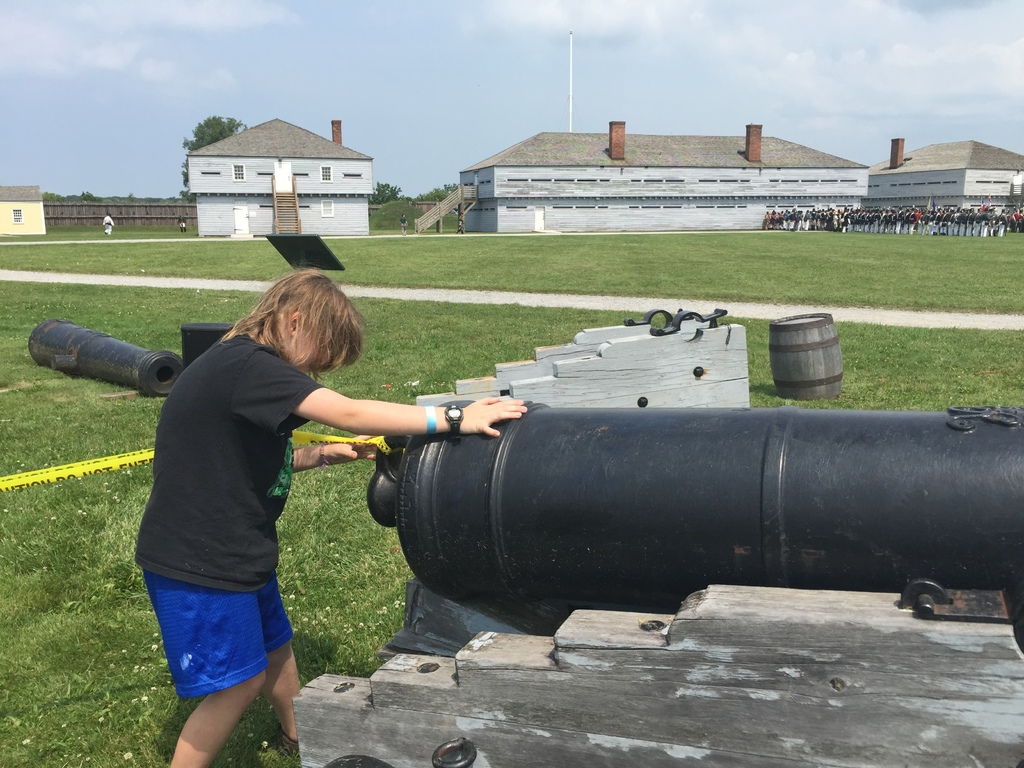Person: (133, 265, 528, 768), (762, 208, 1024, 239), (103, 212, 115, 236), (400, 216, 410, 236), (456, 214, 465, 234), (177, 216, 187, 233)
